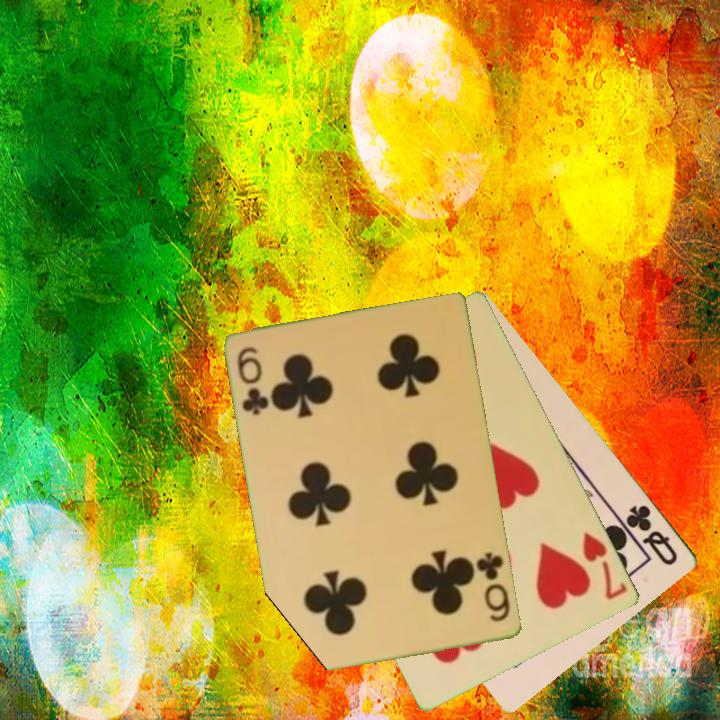6c: (473, 549, 514, 625), (234, 344, 272, 418)
7h: (579, 528, 631, 603)
Qc: (622, 501, 682, 569)
